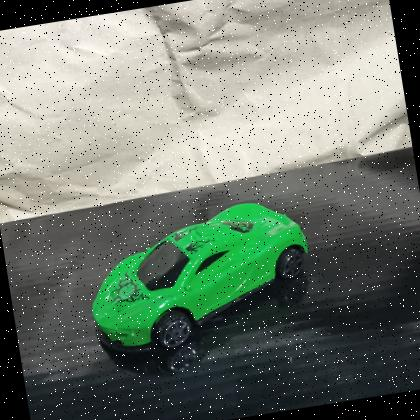Car: (92, 203, 310, 355)
